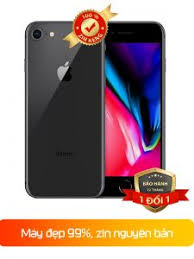iphone8: (20, 18, 169, 201), (20, 19, 106, 199)
